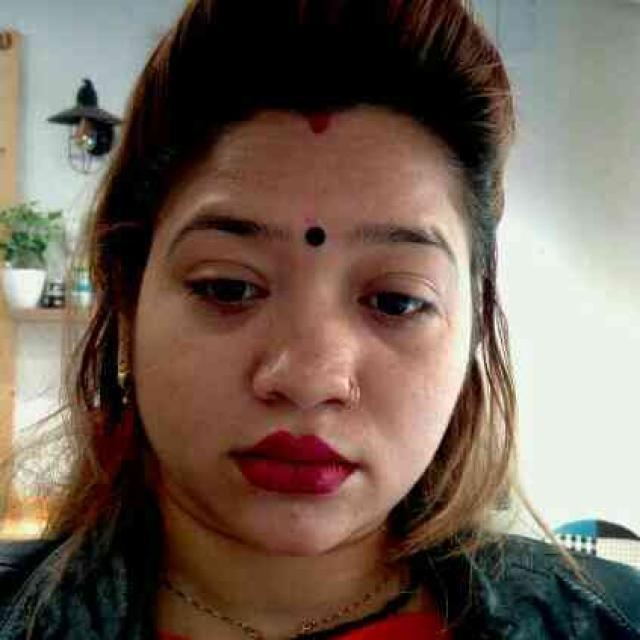puffy_eyes: (353, 314, 439, 349), (186, 303, 267, 332)
